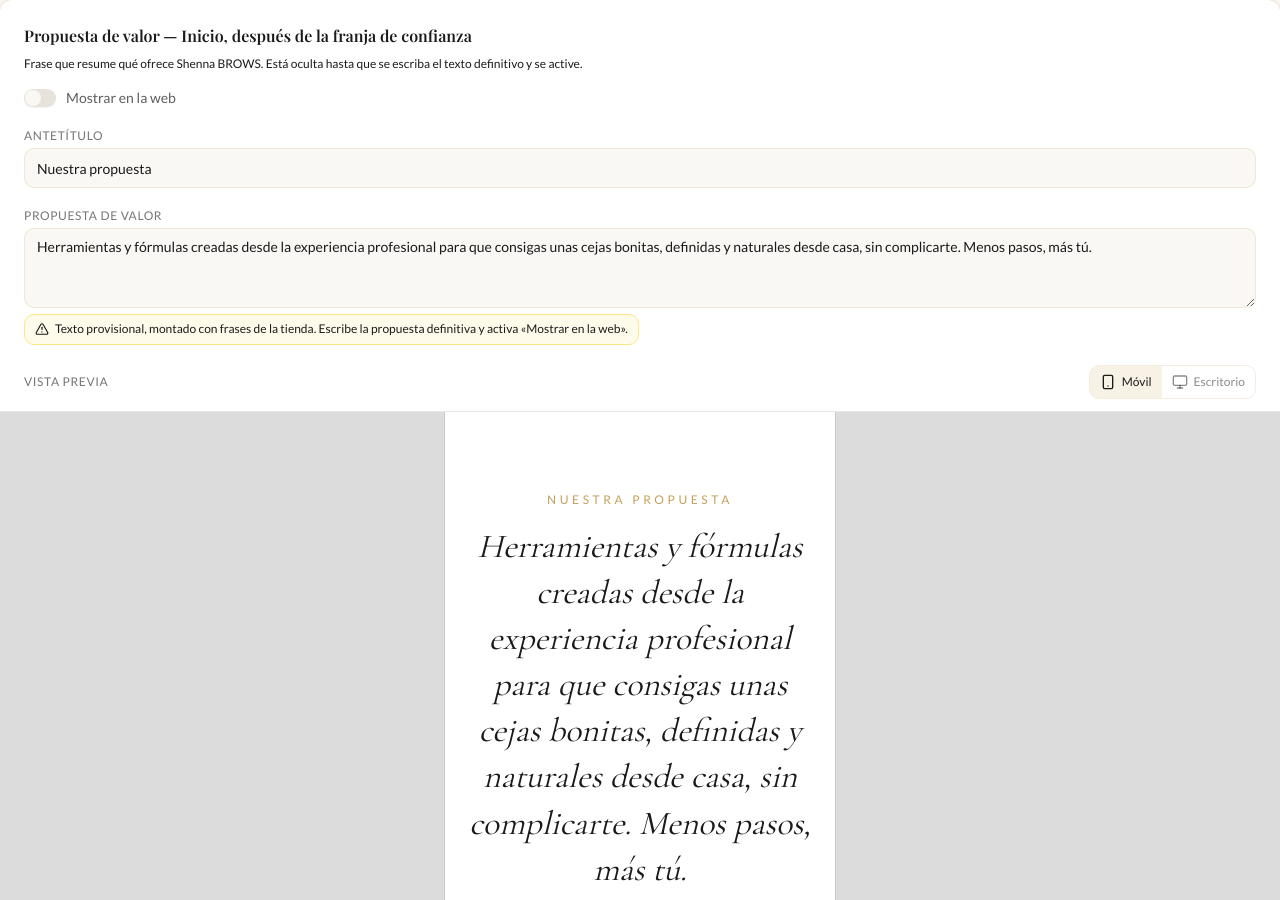
textos pendientes de la clienta › quita el aviso en cuanto se escribe el texto definitivo
Replace the text in the text box showing "Menos pasos, más tú" with "La belleza de unas cejas cuidadas, en casa." at (640, 268), box [24,228,1256,308]
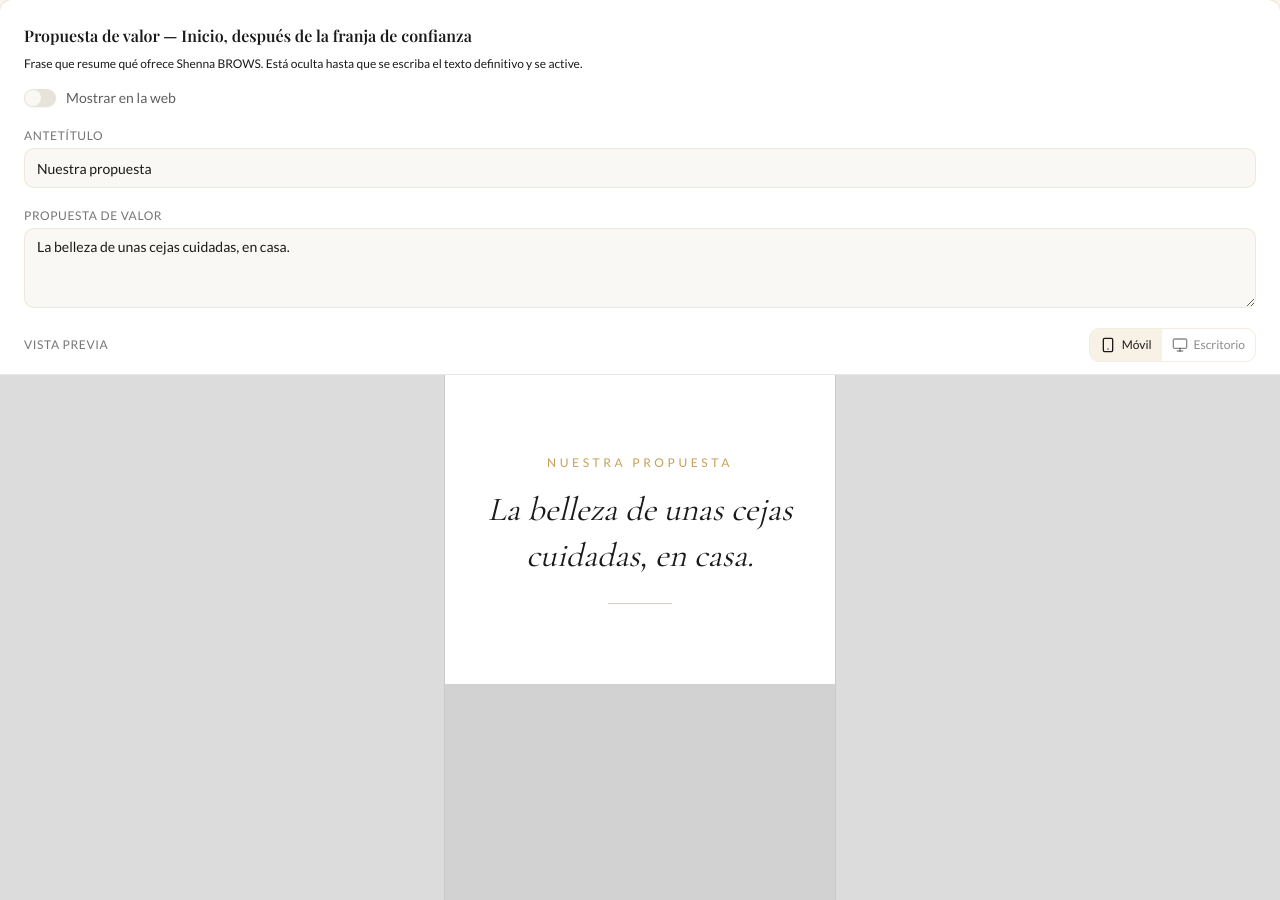
Expected: the text "Texto provisional, montado" is gone
